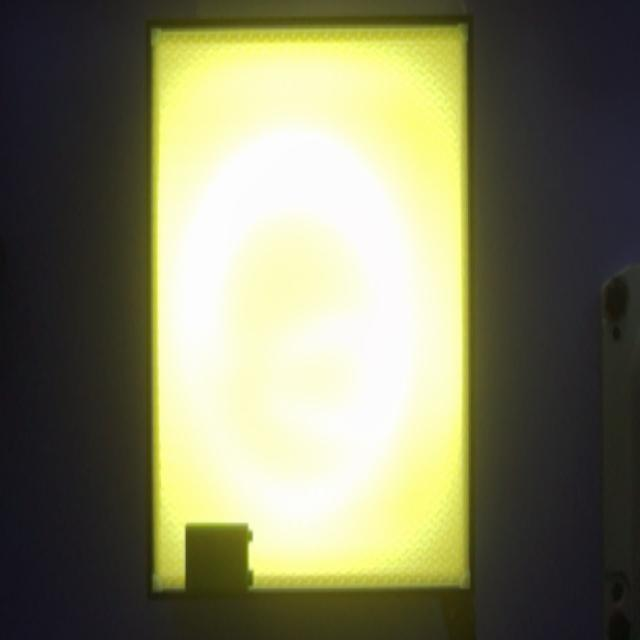bateria: (184, 523, 253, 594)
mesa: (147, 17, 474, 601)
